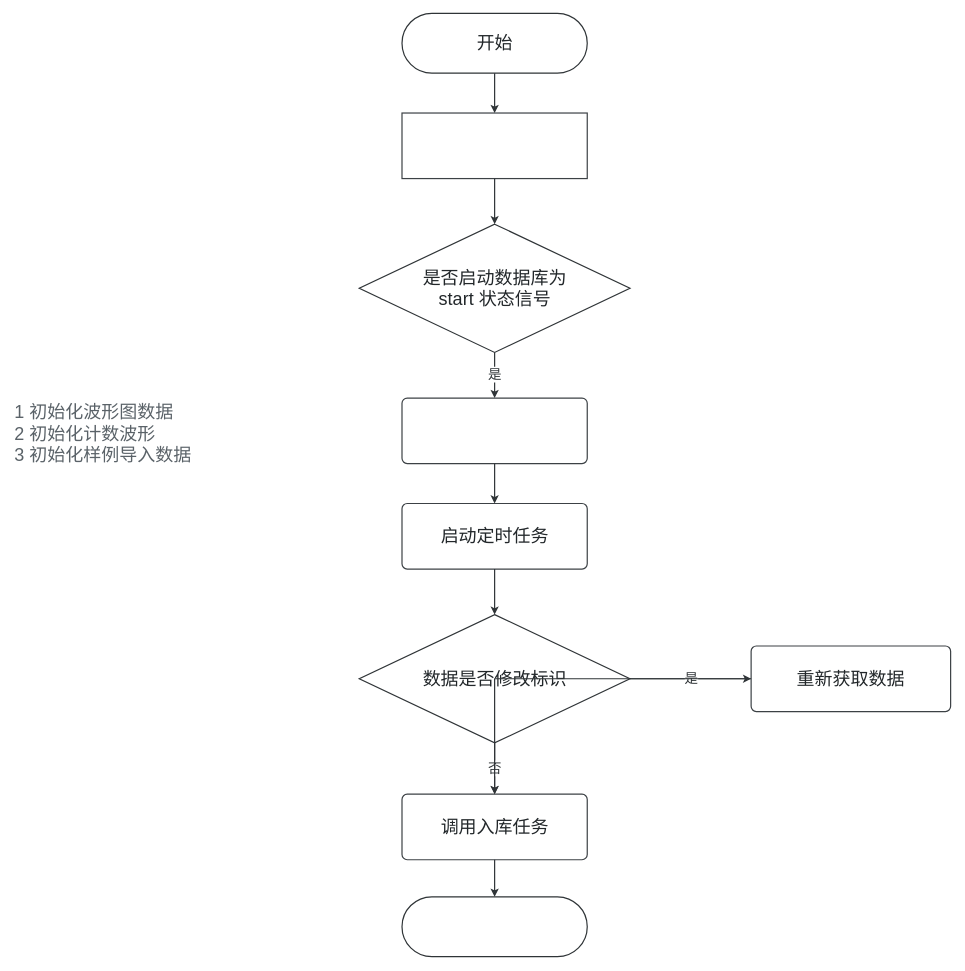
Some shapes in this 965 by 971 pixel diagram are drawn without their labels. The shapes that lost their labels are listed below. From the top down, each one's box as (x1, y1, x2, y2) in pixels, then its label:
(401, 112, 587, 179): 服务启动
(401, 397, 587, 464): 初始化数据
(401, 896, 587, 957): 结束
